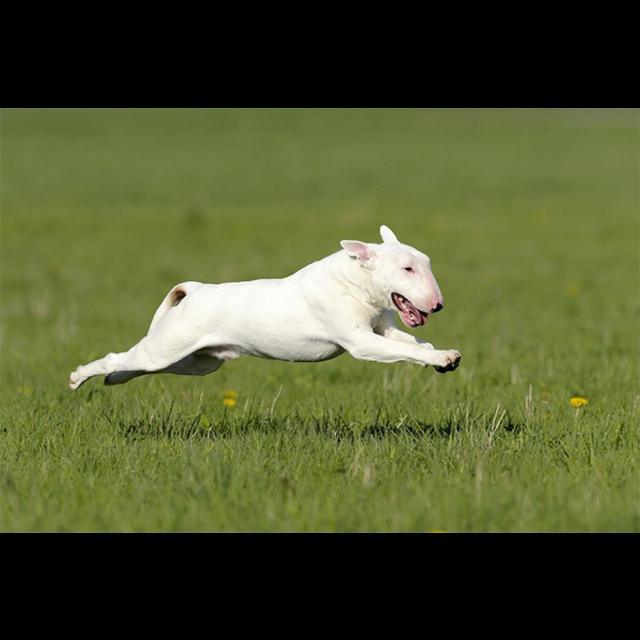bullterrier: (69, 224, 463, 392)
